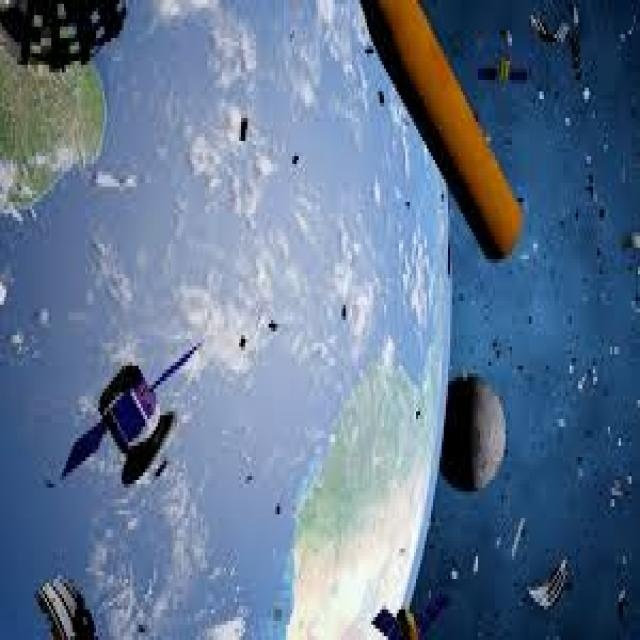large_debris: (346, 8, 552, 295), (422, 345, 519, 514)
satellite: (53, 331, 204, 511)
